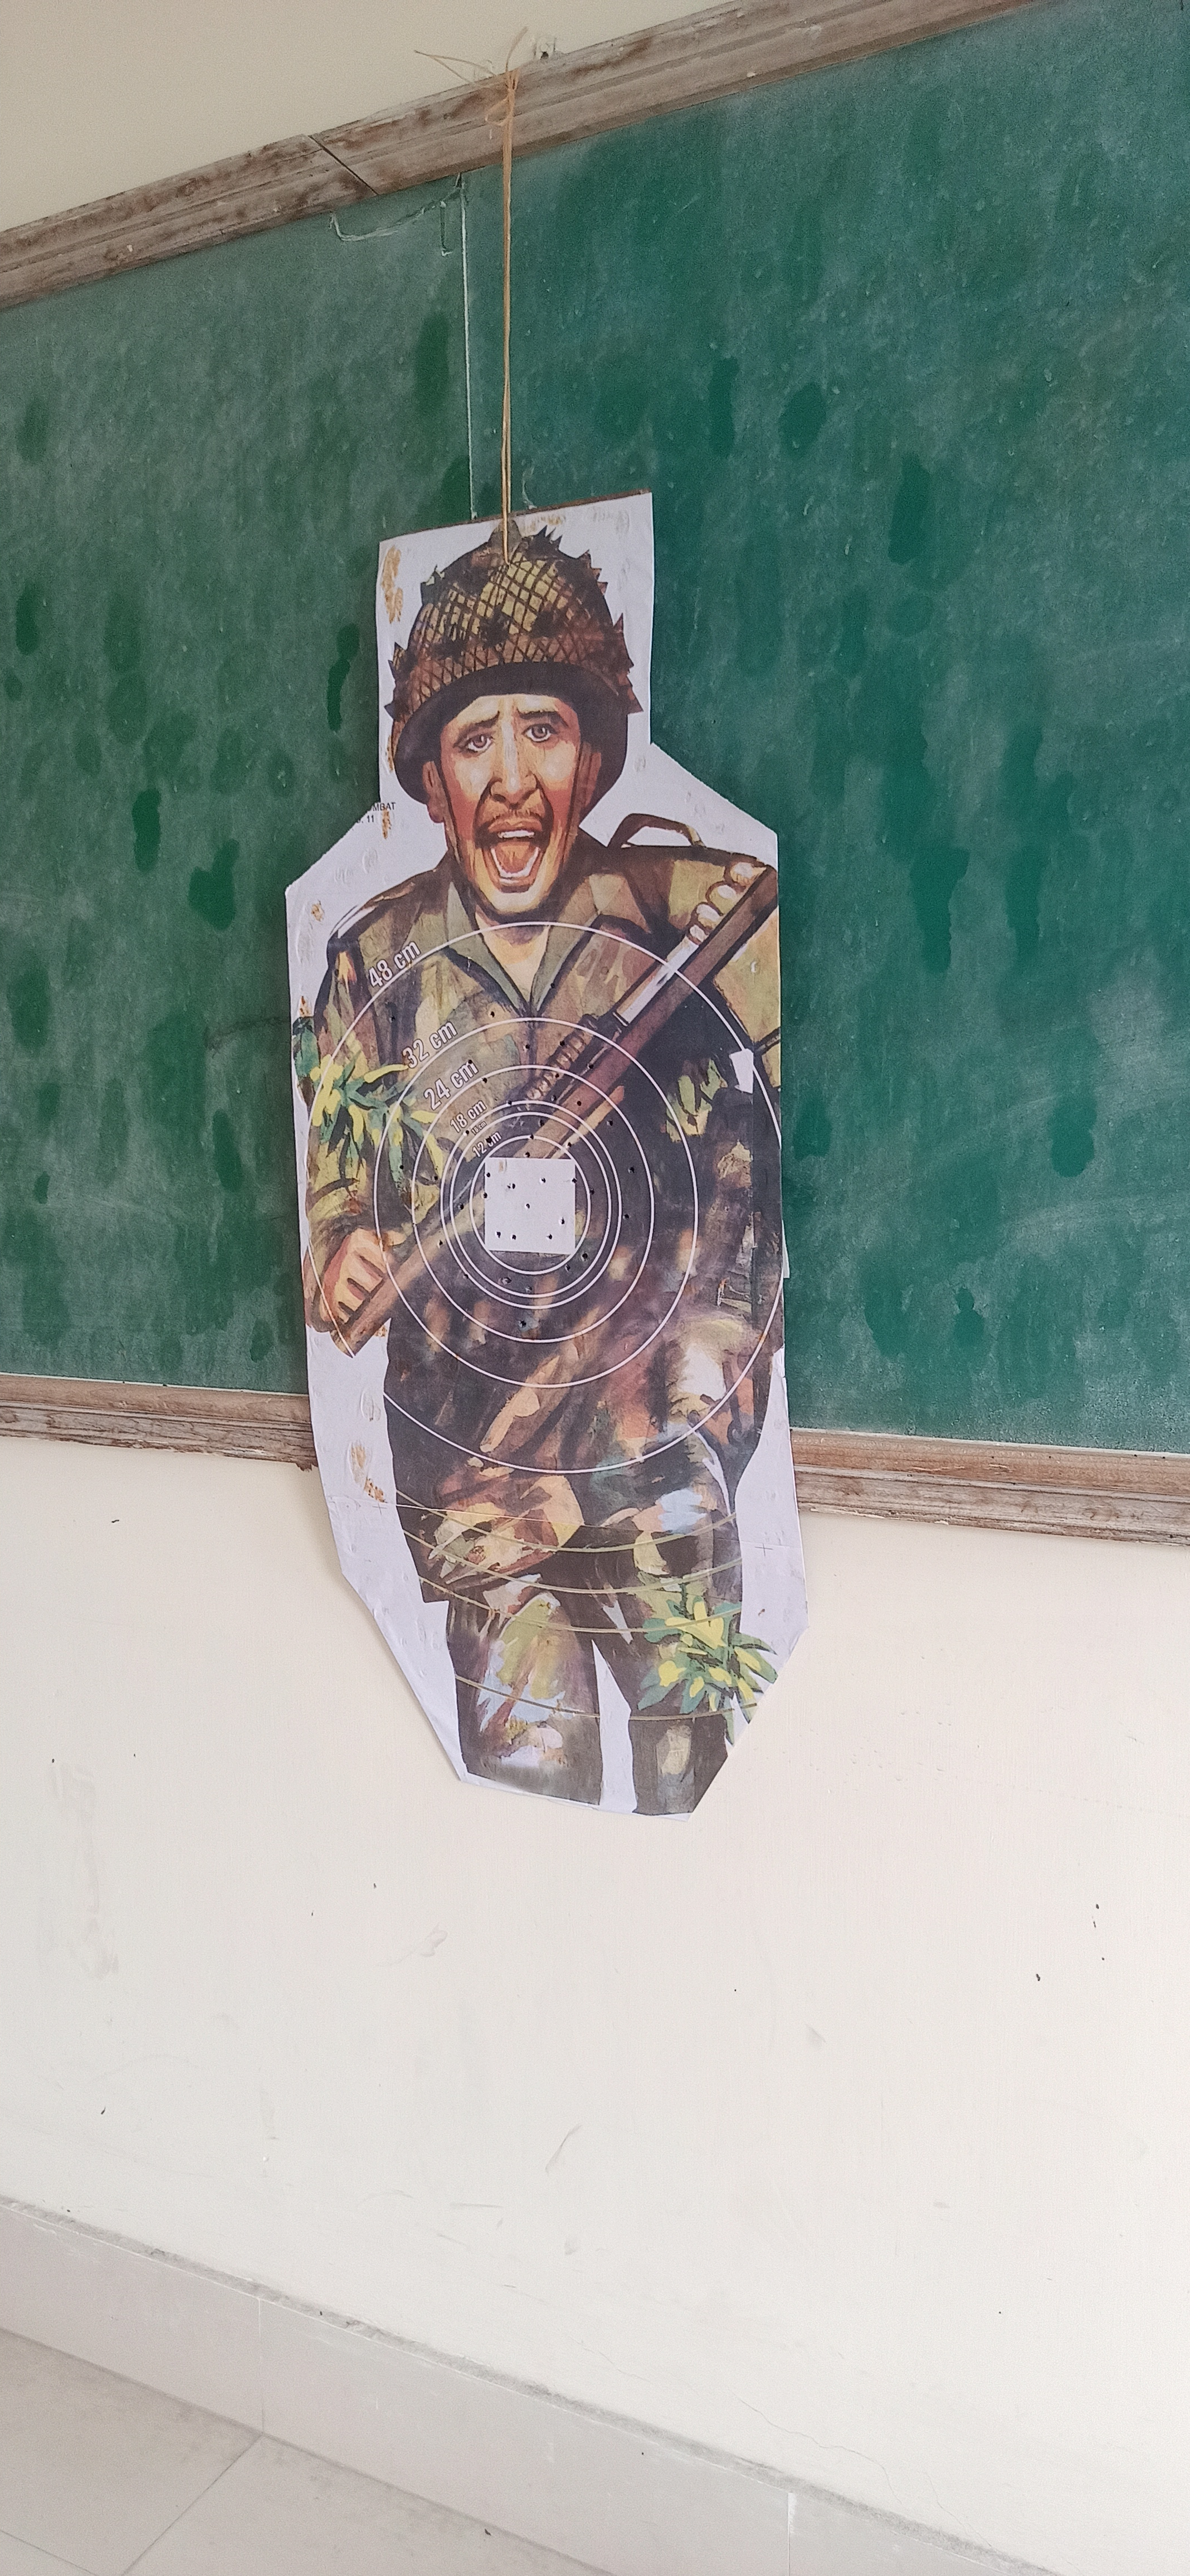bullet hit: (516, 1318, 531, 1331), (500, 1273, 514, 1286), (564, 1138, 577, 1152), (521, 1201, 534, 1212), (547, 1092, 559, 1106), (557, 1214, 567, 1229), (478, 1191, 490, 1203), (537, 1175, 549, 1186), (464, 1056, 475, 1068), (480, 1076, 491, 1088), (605, 1117, 616, 1129), (493, 1229, 503, 1242), (557, 1037, 567, 1050), (588, 1060, 598, 1073), (625, 1165, 638, 1175), (432, 1173, 442, 1186), (574, 1099, 585, 1109), (544, 1232, 554, 1244), (510, 1232, 519, 1244), (457, 1201, 467, 1212), (526, 1132, 537, 1142), (508, 1181, 518, 1193), (483, 1135, 495, 1145), (537, 1117, 547, 1129), (552, 1069, 562, 1081), (462, 1272, 472, 1283), (524, 1285, 536, 1295), (579, 1250, 588, 1262), (587, 1186, 597, 1198), (462, 1129, 472, 1138), (623, 1212, 633, 1222), (436, 1239, 445, 1249), (570, 1176, 579, 1188), (506, 1099, 514, 1111), (547, 982, 559, 991), (388, 1015, 399, 1023), (398, 1163, 406, 1175), (488, 1010, 498, 1019), (523, 1042, 531, 1051), (564, 1263, 572, 1273), (483, 1173, 491, 1180)
white box: (483, 1153, 579, 1257)
